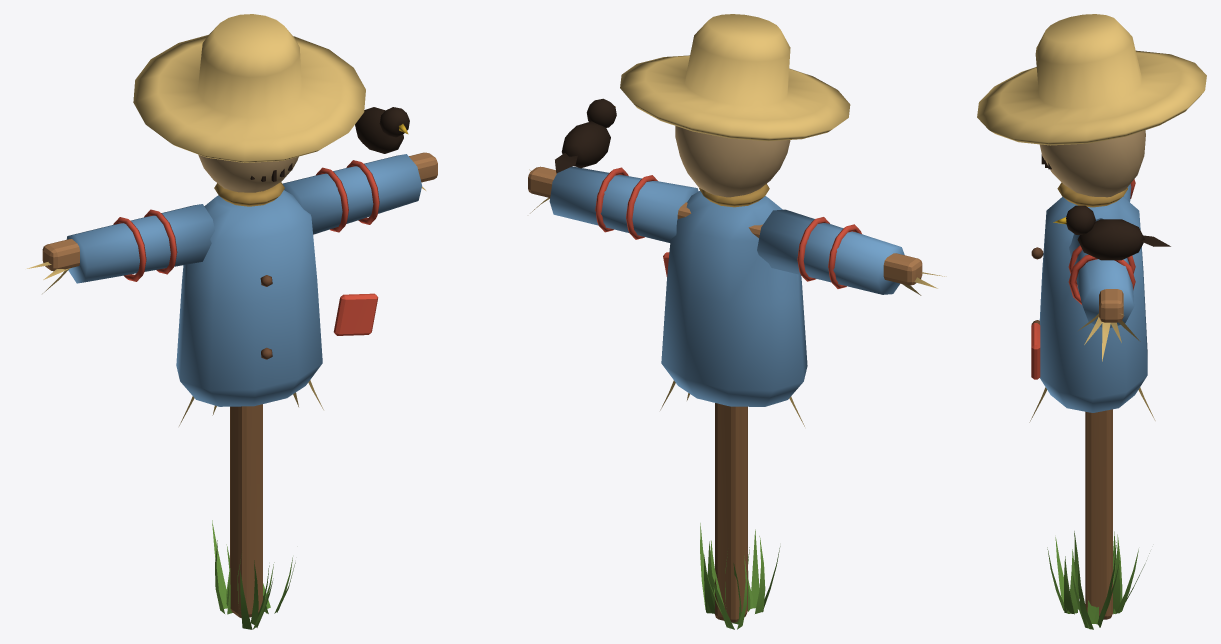
Rendered from epouvantail.glb.
3 renders of one model, left to right at view 1: azimuth 30°, elevation 25°; view 2: azimuth 150°, elevation 25°; view 3: azimuth 270°, elevation 25°, orthographic.
Visible parts, largest first — view 1: epouvantail:peinture-bleue, epouvantail:paille, epouvantail:bois, epouvantail:peinture-rouge, epouvantail:toile-jute, epouvantail:ombre, epouvantail:brin, epouvantail:paille-sombre; view 2: epouvantail:peinture-bleue, epouvantail:paille, epouvantail:bois, epouvantail:toile-jute, epouvantail:brin, epouvantail:ombre, epouvantail:peinture-rouge, epouvantail:paille-sombre; view 3: epouvantail:paille, epouvantail:peinture-bleue, epouvantail:bois, epouvantail:toile-jute, epouvantail:ombre, epouvantail:brin, epouvantail:peinture-rouge, epouvantail:paille-sombre.
Boxes of the visible parts, x1=… form: epouvantail:peinture-bleue: x1=66, y1=154, x2=421, y2=406; epouvantail:paille: x1=27, y1=14, x2=425, y2=425; epouvantail:bois: x1=42, y1=152, x2=437, y2=617; epouvantail:peinture-rouge: x1=113, y1=160, x2=379, y2=335; epouvantail:toile-jute: x1=198, y1=154, x2=298, y2=192; epouvantail:ombre: x1=250, y1=107, x2=409, y2=181; epouvantail:brin: x1=212, y1=520, x2=295, y2=629; epouvantail:paille-sombre: x1=214, y1=182, x2=284, y2=206; epouvantail:peinture-bleue: x1=549, y1=166, x2=904, y2=406; epouvantail:paille: x1=529, y1=14, x2=946, y2=426; epouvantail:bois: x1=528, y1=166, x2=922, y2=622; epouvantail:toile-jute: x1=675, y1=126, x2=790, y2=197; epouvantail:brin: x1=700, y1=523, x2=780, y2=629; epouvantail:ombre: x1=555, y1=98, x2=616, y2=173; epouvantail:peinture-rouge: x1=595, y1=167, x2=861, y2=288; epouvantail:paille-sombre: x1=699, y1=183, x2=769, y2=207; epouvantail:paille: x1=977, y1=14, x2=1206, y2=422; epouvantail:peinture-bleue: x1=1039, y1=184, x2=1147, y2=412; epouvantail:bois: x1=1085, y1=196, x2=1123, y2=619; epouvantail:toile-jute: x1=1039, y1=130, x2=1145, y2=197; epouvantail:ombre: x1=1041, y1=154, x2=1170, y2=260; epouvantail:brin: x1=1047, y1=531, x2=1149, y2=629; epouvantail:peinture-rouge: x1=1031, y1=179, x2=1135, y2=379; epouvantail:paille-sombre: x1=1057, y1=182, x2=1127, y2=207.
Size of the model in its own units: 1.62 by 2.12 by 0.746.
